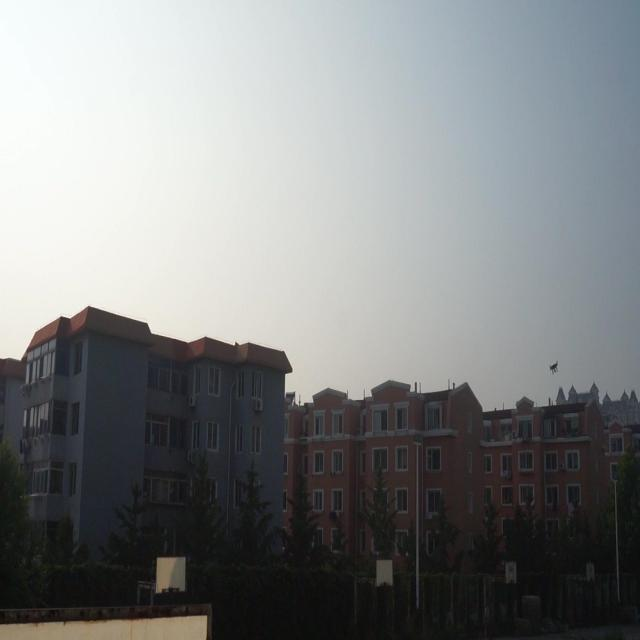UAV: (550, 360, 558, 375)
